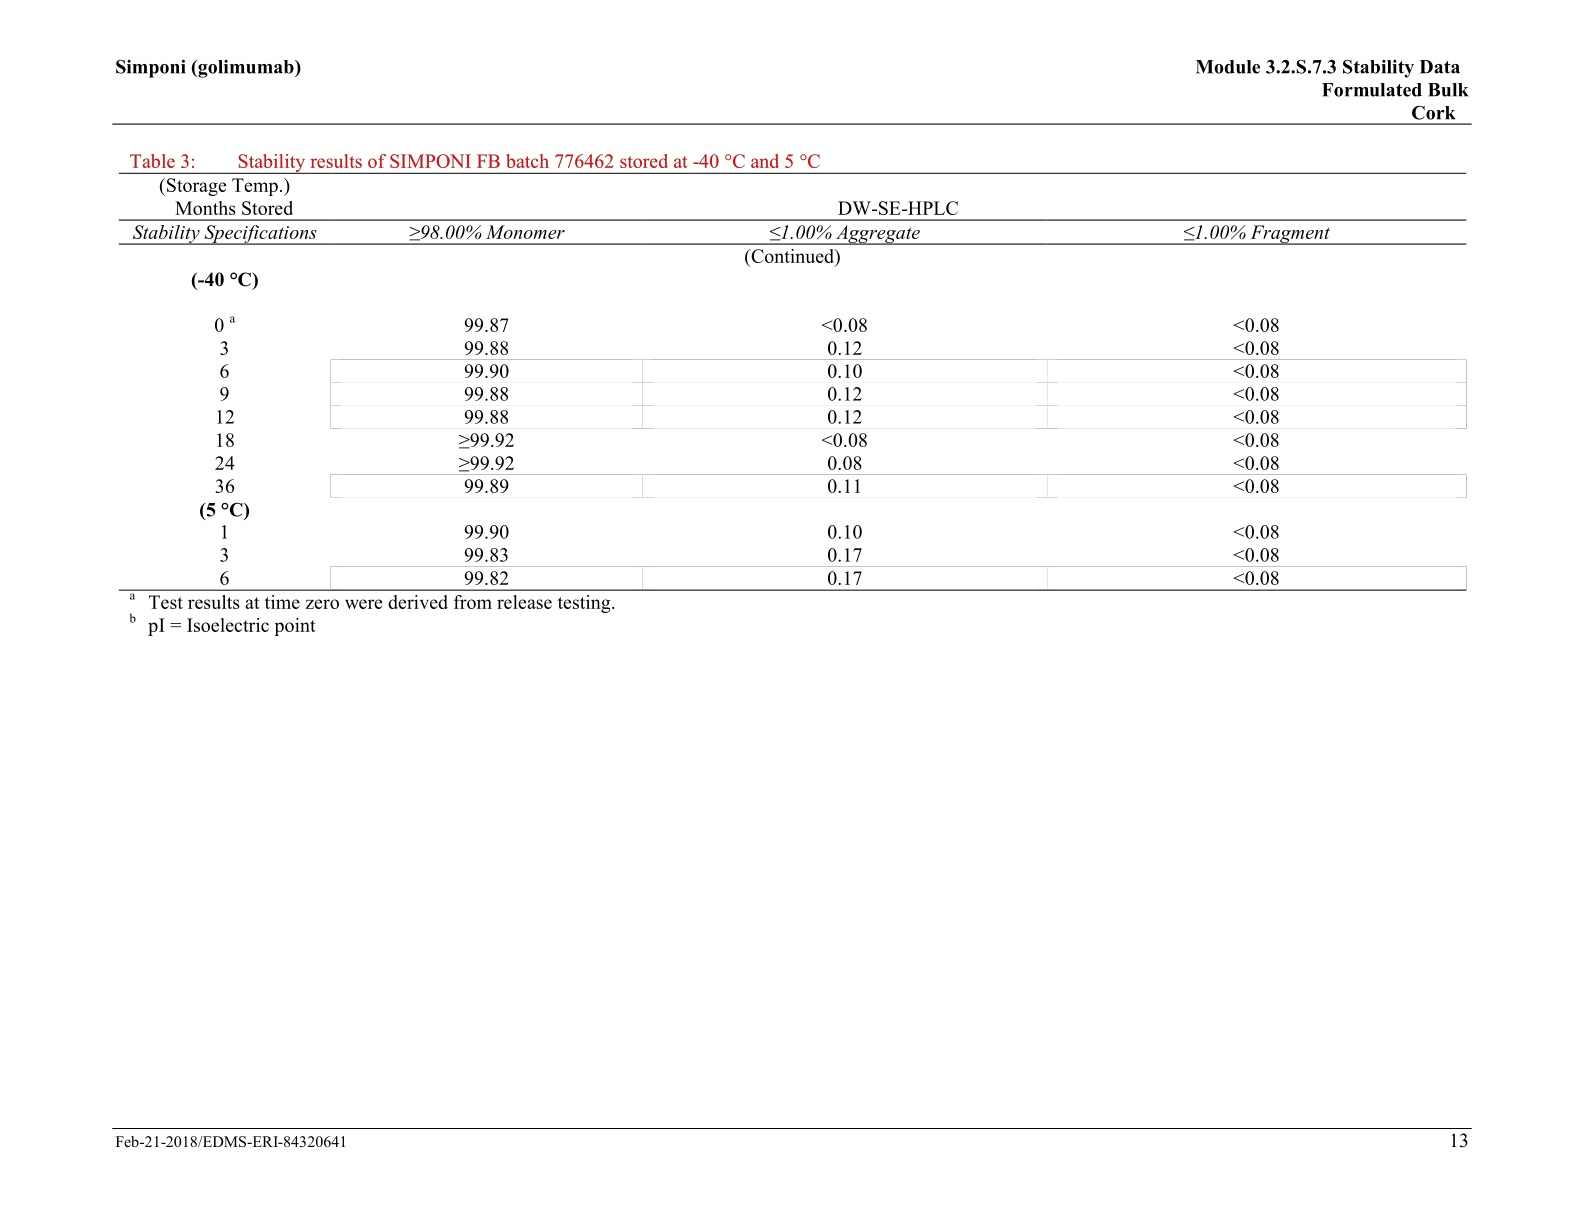partial_lined: (118, 171, 1467, 590)
